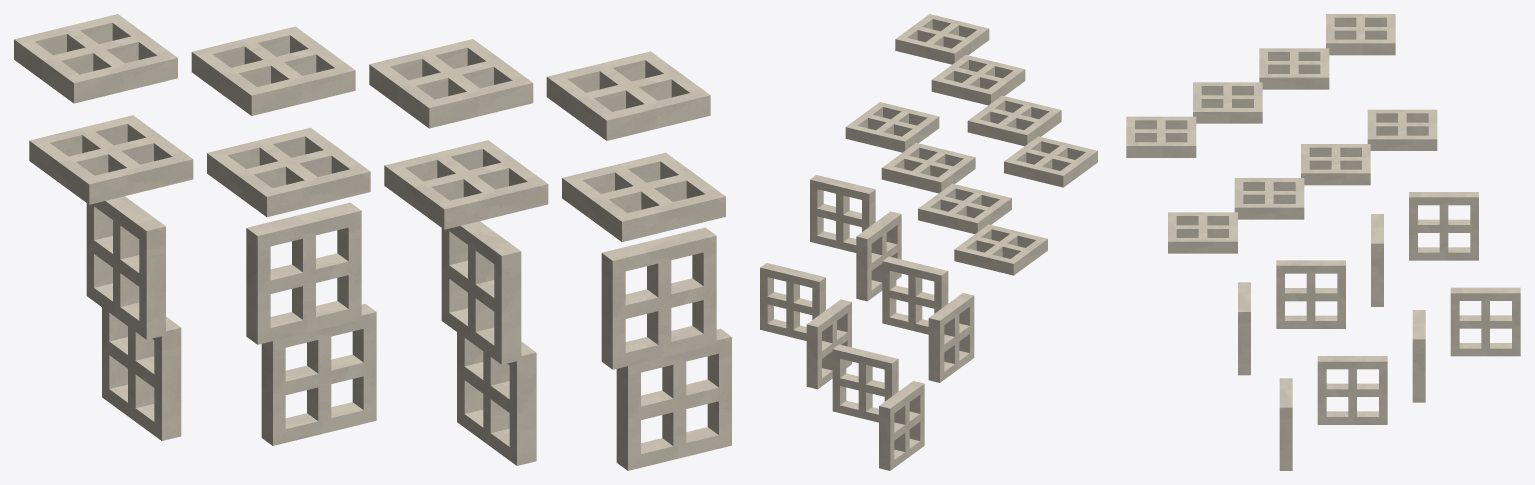
The model's file is iron_trapdoor12_candidate16_endpoint_reference_atlas.fbx.
3 renders of one model, left to right at view 1: azimuth 30°, elevation 25°; view 2: azimuth 150°, elevation 25°; view 3: azimuth 270°, elevation 25°, orthographic. The views are drawn at different scales.
Parts seen in each view (by area): view 1: TRAPDOOR12_candidate_meta08, TRAPDOOR12_candidate_meta10, TRAPDOOR12_candidate_meta14, TRAPDOOR12_candidate_meta12, TRAPDOOR12_candidate_meta02, TRAPDOOR12_candidate_meta07, TRAPDOOR12_candidate_meta01, TRAPDOOR12_candidate_meta00, TRAPDOOR12_candidate_meta05, TRAPDOOR12_candidate_meta03, TRAPDOOR12_candidate_meta06, TRAPDOOR12_candidate_meta04 (+4 smaller); view 2: TRAPDOOR12_candidate_meta10, TRAPDOOR12_candidate_meta14, TRAPDOOR12_candidate_meta12, TRAPDOOR12_candidate_meta08, TRAPDOOR12_candidate_meta11, TRAPDOOR12_candidate_meta15, TRAPDOOR12_candidate_meta03, TRAPDOOR12_candidate_meta07, TRAPDOOR12_candidate_meta04, TRAPDOOR12_candidate_meta05, TRAPDOOR12_candidate_meta00, TRAPDOOR12_candidate_meta02 (+4 smaller); view 3: TRAPDOOR12_candidate_meta15, TRAPDOOR12_candidate_meta13, TRAPDOOR12_candidate_meta09, TRAPDOOR12_candidate_meta11, TRAPDOOR12_candidate_meta00, TRAPDOOR12_candidate_meta02, TRAPDOOR12_candidate_meta07, TRAPDOOR12_candidate_meta05, TRAPDOOR12_candidate_meta04, TRAPDOOR12_candidate_meta01, TRAPDOOR12_candidate_meta03, TRAPDOOR12_candidate_meta06 (+4 smaller).
Part boxes in pixels (bbox=[...]): TRAPDOOR12_candidate_meta08: bbox=[601, 227, 716, 369]; TRAPDOOR12_candidate_meta10: bbox=[246, 202, 361, 344]; TRAPDOOR12_candidate_meta14: bbox=[261, 303, 376, 445]; TRAPDOOR12_candidate_meta12: bbox=[616, 328, 731, 470]; TRAPDOOR12_candidate_meta02: bbox=[191, 26, 355, 115]; TRAPDOOR12_candidate_meta07: bbox=[29, 115, 193, 204]; TRAPDOOR12_candidate_meta01: bbox=[369, 39, 533, 128]; TRAPDOOR12_candidate_meta00: bbox=[546, 51, 710, 140]; TRAPDOOR12_candidate_meta05: bbox=[384, 140, 548, 229]; TRAPDOOR12_candidate_meta03: bbox=[14, 14, 177, 103]; TRAPDOOR12_candidate_meta06: bbox=[207, 127, 370, 217]; TRAPDOOR12_candidate_meta04: bbox=[562, 152, 725, 241]; TRAPDOOR12_candidate_meta10: bbox=[882, 256, 948, 334]; TRAPDOOR12_candidate_meta14: bbox=[832, 344, 898, 422]; TRAPDOOR12_candidate_meta12: bbox=[760, 263, 825, 340]; TRAPDOOR12_candidate_meta08: bbox=[810, 175, 875, 252]; TRAPDOOR12_candidate_meta11: bbox=[928, 293, 974, 382]; TRAPDOOR12_candidate_meta15: bbox=[879, 381, 924, 470]; TRAPDOOR12_candidate_meta03: bbox=[1004, 136, 1097, 187]; TRAPDOOR12_candidate_meta07: bbox=[954, 224, 1047, 275]; TRAPDOOR12_candidate_meta04: bbox=[845, 102, 939, 152]; TRAPDOOR12_candidate_meta05: bbox=[881, 142, 975, 193]; TRAPDOOR12_candidate_meta00: bbox=[895, 14, 989, 64]; TRAPDOOR12_candidate_meta02: bbox=[967, 95, 1061, 146]; TRAPDOOR12_candidate_meta15: bbox=[1450, 287, 1520, 356]; TRAPDOOR12_candidate_meta13: bbox=[1317, 356, 1387, 424]; TRAPDOOR12_candidate_meta09: bbox=[1276, 260, 1345, 328]; TRAPDOOR12_candidate_meta11: bbox=[1409, 192, 1478, 260]; TRAPDOOR12_candidate_meta00: bbox=[1126, 116, 1196, 157]; TRAPDOOR12_candidate_meta02: bbox=[1259, 48, 1329, 89]; TRAPDOOR12_candidate_meta07: bbox=[1367, 109, 1437, 150]; TRAPDOOR12_candidate_meta05: bbox=[1234, 178, 1304, 219]; TRAPDOOR12_candidate_meta04: bbox=[1168, 212, 1237, 253]; TRAPDOOR12_candidate_meta01: bbox=[1193, 82, 1262, 123]; TRAPDOOR12_candidate_meta03: bbox=[1326, 14, 1395, 55]; TRAPDOOR12_candidate_meta06: bbox=[1301, 144, 1370, 185].
Size of the model in its own units: 595 by 445 by 565.
